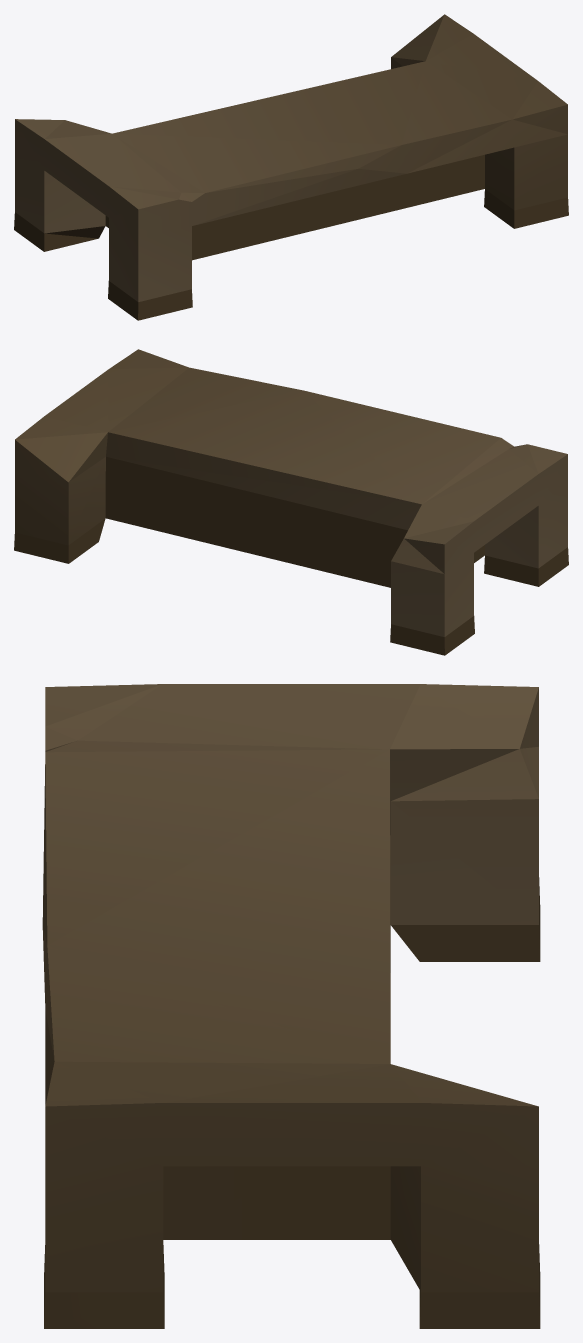
The model's file is MarketStall_Table_Space.gltf.
The picture shows the model from 3 angles, top to bottom: view 1: azimuth 30°, elevation 25°; view 2: azimuth 150°, elevation 25°; view 3: azimuth 270°, elevation 25°; orthographic projection. The views are drawn at different scales.
Visible parts, largest first — view 1: MarketStall_Table_Space; view 2: MarketStall_Table_Space; view 3: MarketStall_Table_Space.
Part boxes in pixels (box(x1,y1,x2,y2)): MarketStall_Table_Space: box(14, 14, 568, 320); MarketStall_Table_Space: box(14, 349, 568, 655); MarketStall_Table_Space: box(42, 684, 540, 1328).
Bounding box in the file's own units: 2 × 0.5 × 1.
1 material, 1 textured.
